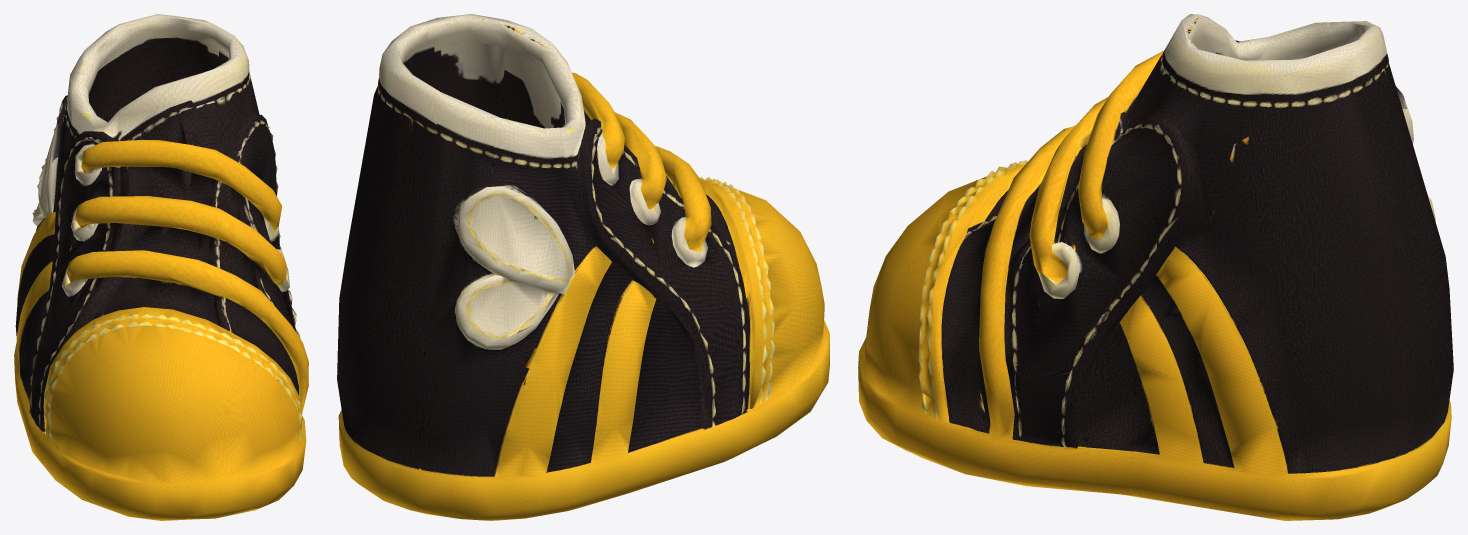
File: shoe-right.fbx
3 views of the same model, side by side, from view 1: azimuth 30°, elevation 25°; view 2: azimuth 150°, elevation 25°; view 3: azimuth 270°, elevation 25° (orthographic). The views are drawn at different scales.
Visible parts, largest first — view 1: shoe-right; view 2: shoe-right; view 3: shoe-right.
Boxes of the visible parts, <box> form: shoe-right: <box>14,14,308,520</box>; shoe-right: <box>337,14,829,520</box>; shoe-right: <box>858,14,1453,520</box>.
Size of the model in its own units: 17.66 by 20.51 by 24.77.
1 material, 1 textured.
